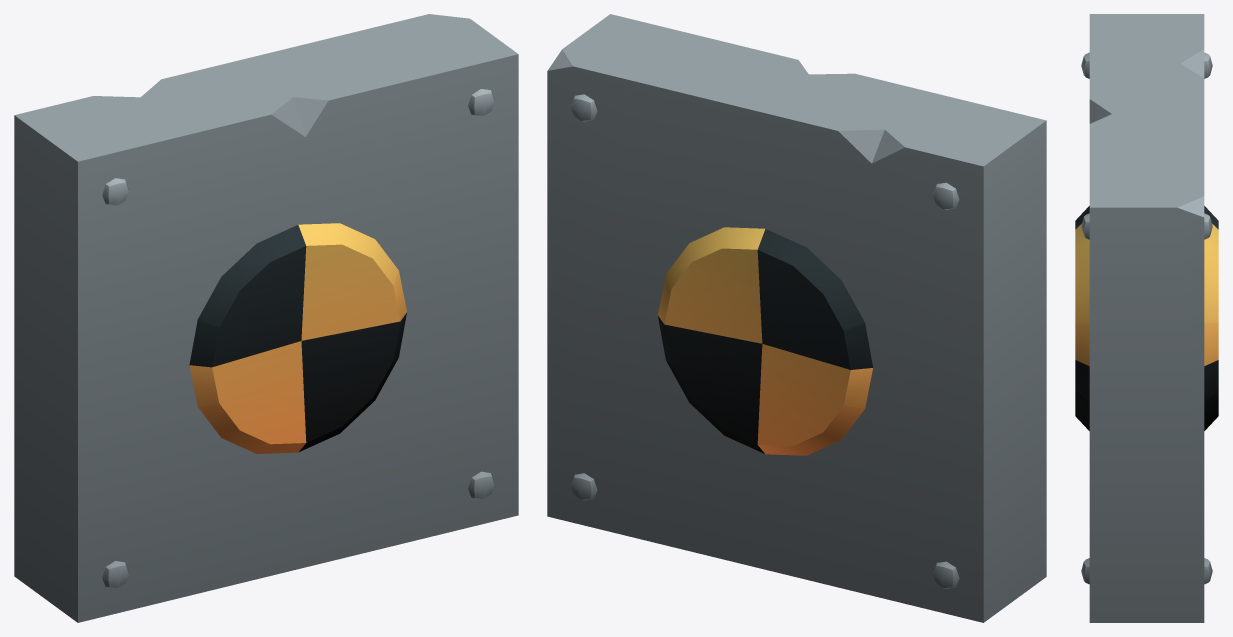
The model's file is wall_C.gltf.glb.
3 renders of one model, left to right at view 1: azimuth 30°, elevation 25°; view 2: azimuth 150°, elevation 25°; view 3: azimuth 270°, elevation 25°, orthographic. The views are drawn at different scales.
Parts seen in each view (by area): view 1: wall_C; view 2: wall_C; view 3: wall_C.
Part boxes in pixels (left/top/right/bottom): wall_C: left=14, top=14, right=518, bottom=622; wall_C: left=547, top=14, right=1046, bottom=622; wall_C: left=1075, top=14, right=1218, bottom=622.
Size of the model in its own units: 2 by 2 by 0.625.
Materials: 1 (1 with a texture image).
